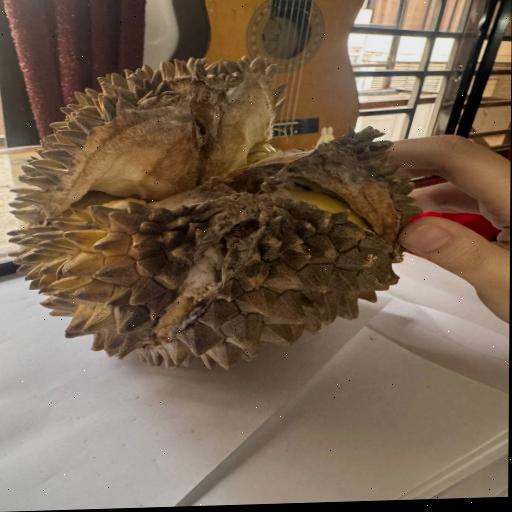rot: (0, 32, 456, 396)
